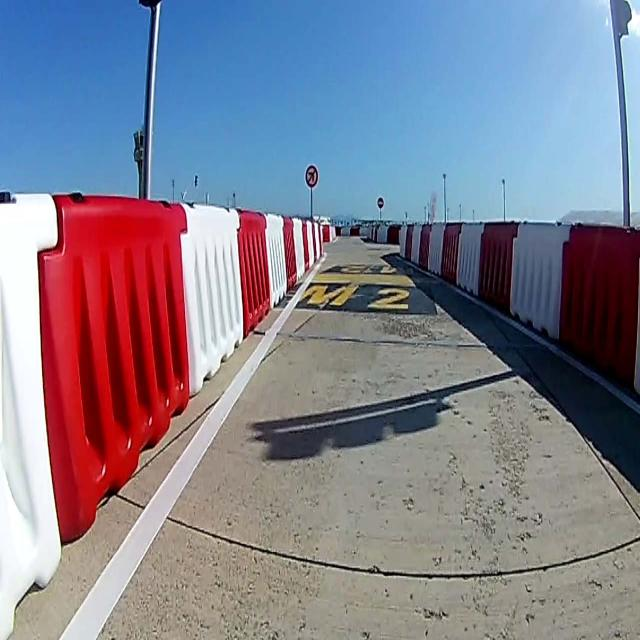girisyok: (378, 196, 384, 209)
soladonulmez: (305, 165, 319, 188)
